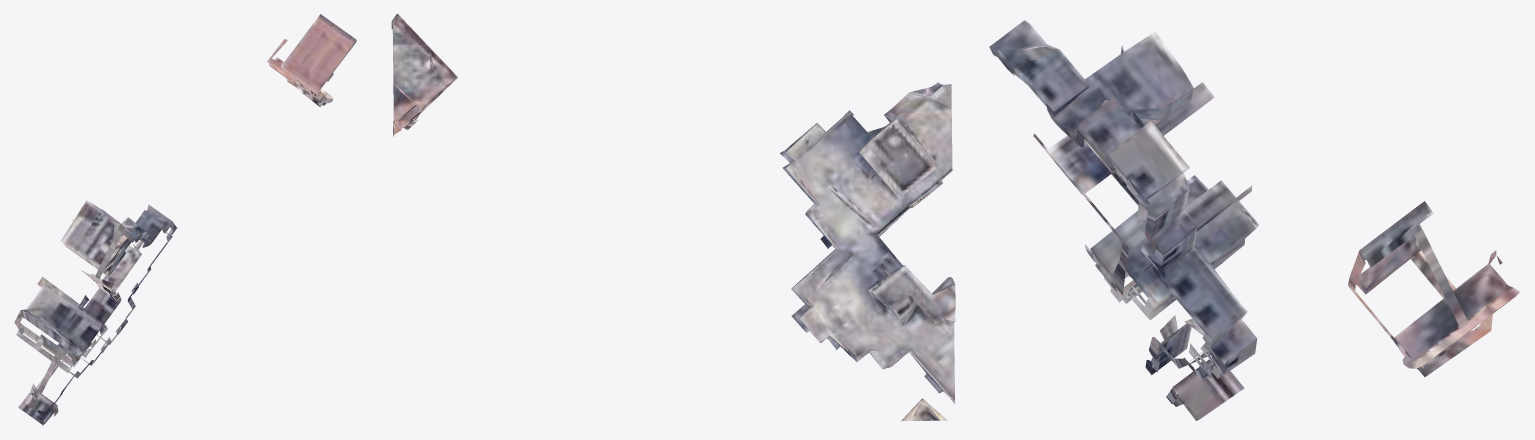
The picture shows the model from 3 angles, left to right: view 1: azimuth 30°, elevation 25°; view 2: azimuth 150°, elevation 25°; view 3: azimuth 270°, elevation 25°; orthographic projection. The views are drawn at different scales.
Bounding box in the file's own units: 72.69 × 50.13 × 46.64.
Materials: 1 (1 with a texture image).
